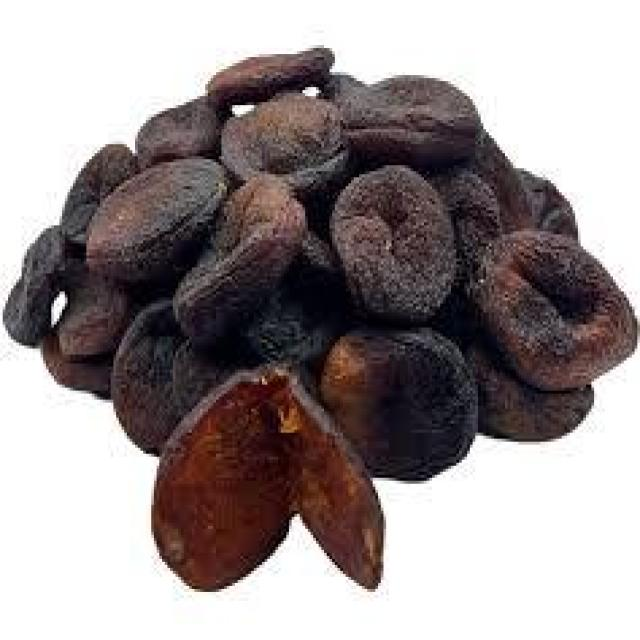kayisi: (22, 40, 622, 604)
